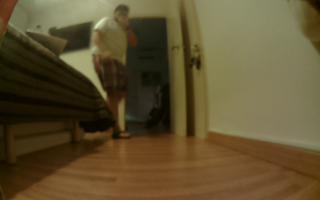person: (90, 2, 143, 141)
